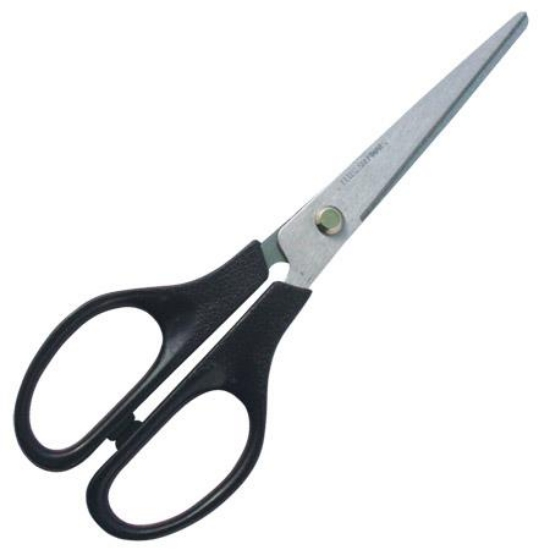scissors: (12, 8, 548, 543)
